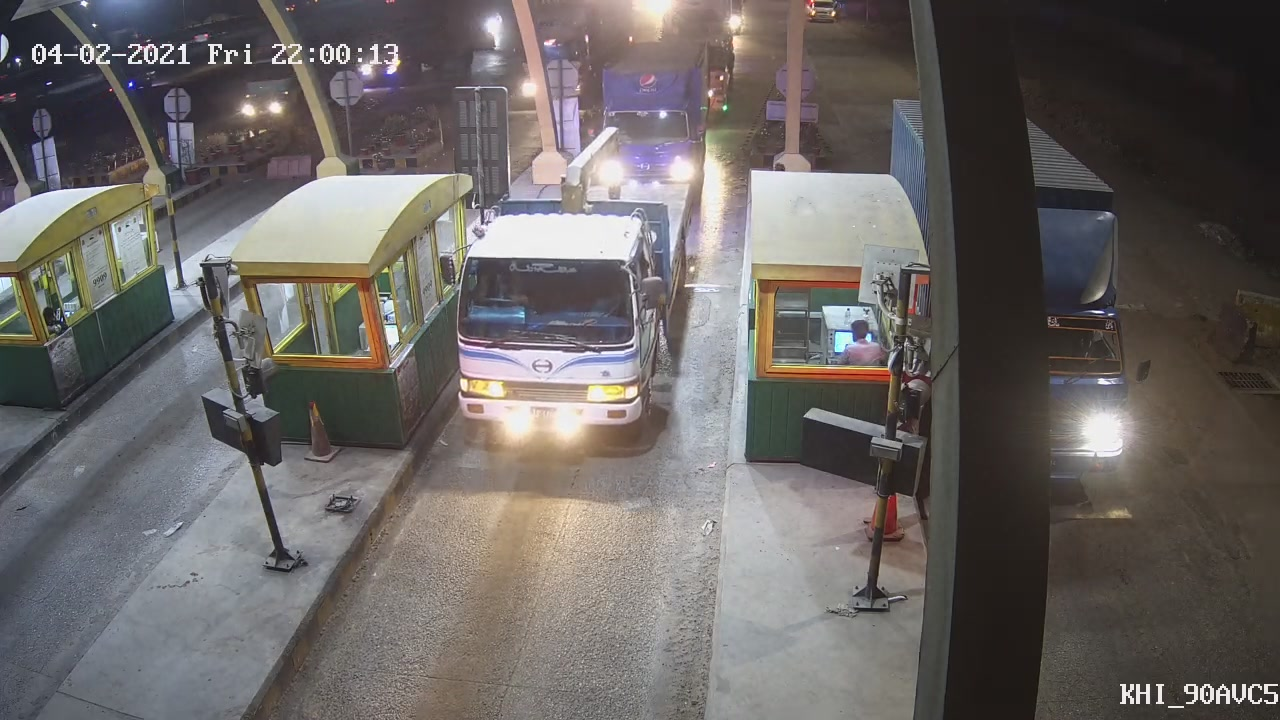F6: (452, 137, 700, 449)
